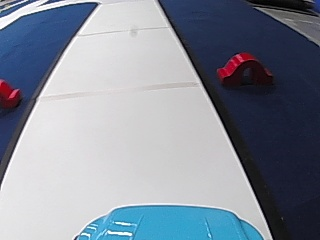bridge: (212, 49, 274, 88), (0, 78, 25, 110)
